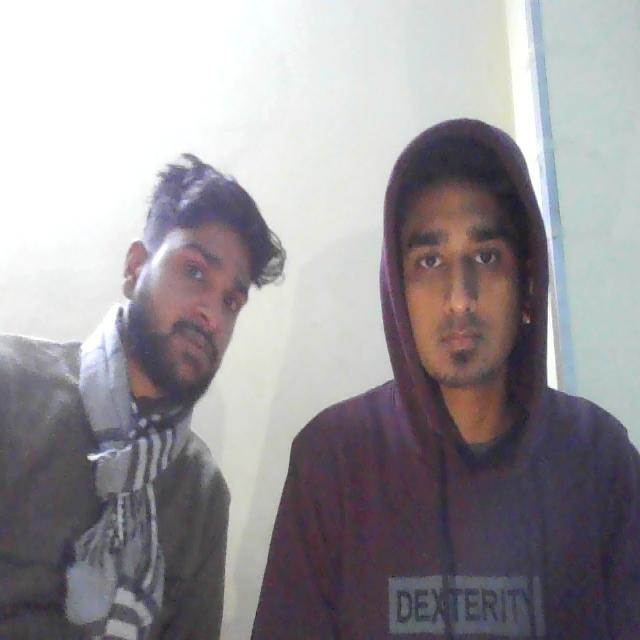real: (387, 108, 547, 411), (125, 153, 257, 403)
